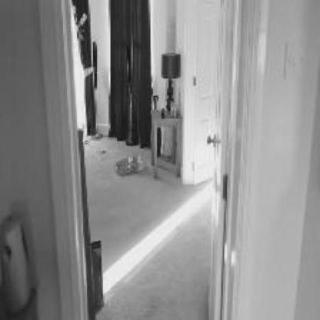other: (106, 0, 150, 136), (68, 1, 104, 131), (154, 49, 184, 79)
